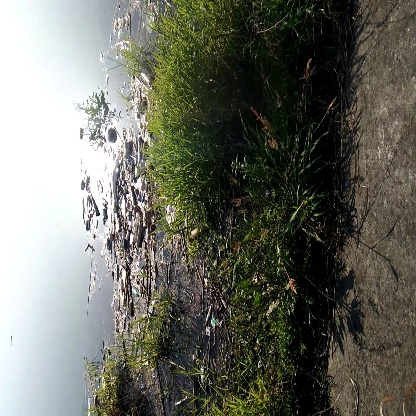grass: (146, 127, 223, 224)
